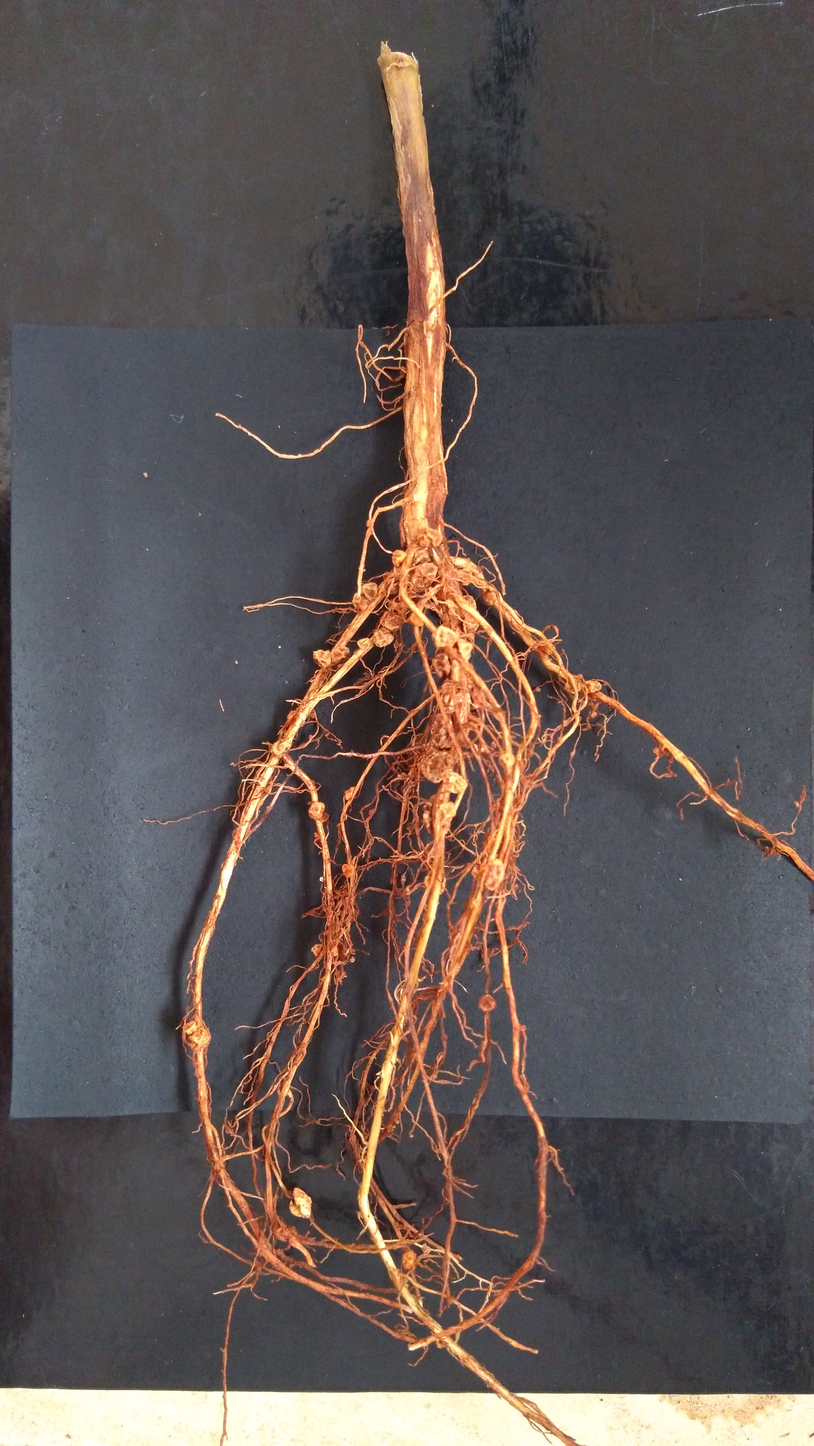nodule: (421, 745, 455, 782), (422, 801, 454, 835), (430, 712, 455, 748), (479, 857, 505, 891), (412, 562, 438, 591), (289, 1187, 312, 1219), (331, 931, 351, 965), (431, 625, 459, 649), (443, 770, 468, 794), (424, 868, 446, 895), (441, 679, 465, 703), (271, 1219, 296, 1242), (188, 1026, 210, 1050), (380, 610, 405, 631), (444, 598, 465, 623), (456, 691, 471, 724), (462, 611, 481, 637), (456, 722, 474, 748), (431, 653, 451, 676), (470, 682, 486, 710), (372, 628, 394, 647), (444, 742, 463, 764), (457, 638, 474, 661), (383, 571, 399, 595), (352, 592, 369, 614), (313, 649, 332, 668), (426, 527, 444, 547), (270, 739, 290, 757), (331, 646, 350, 664), (478, 994, 497, 1012), (402, 1249, 417, 1271), (388, 599, 409, 614), (581, 679, 602, 694), (414, 548, 432, 565), (361, 582, 378, 600), (307, 802, 325, 819), (538, 638, 557, 654), (564, 677, 581, 694), (391, 549, 407, 567), (457, 567, 473, 585), (482, 588, 498, 606), (439, 801, 457, 816), (498, 753, 516, 768), (462, 594, 478, 610), (183, 1020, 198, 1035), (658, 743, 673, 758), (408, 612, 424, 626), (327, 916, 340, 933), (416, 533, 431, 547), (341, 863, 355, 878), (468, 863, 481, 878), (357, 638, 372, 650), (344, 786, 356, 800), (311, 943, 323, 957), (493, 797, 505, 811), (502, 609, 512, 623), (287, 710, 297, 723), (335, 970, 344, 984), (405, 586, 414, 600), (442, 704, 454, 714), (318, 812, 329, 822), (441, 611, 451, 622), (330, 945, 338, 957), (275, 1248, 284, 1256), (400, 366, 407, 376), (397, 772, 407, 779), (366, 519, 374, 527), (588, 711, 597, 718), (490, 740, 497, 749), (368, 808, 375, 816), (333, 960, 341, 967), (401, 873, 407, 882), (519, 1024, 526, 1031), (535, 686, 542, 693), (653, 747, 660, 754), (369, 527, 374, 536), (309, 712, 316, 718), (350, 956, 356, 963), (557, 736, 563, 743), (577, 673, 583, 679), (465, 557, 470, 563), (308, 734, 313, 740), (319, 876, 324, 882), (343, 814, 347, 820), (314, 832, 318, 837)
